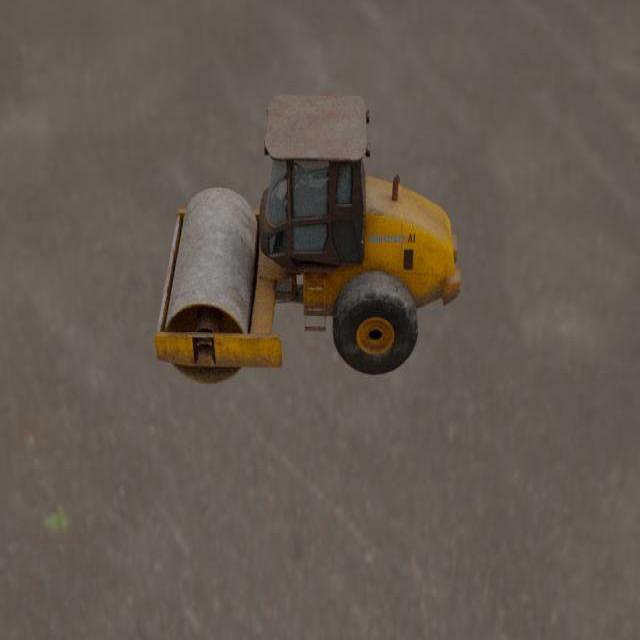Roller: (154, 93, 460, 384)
